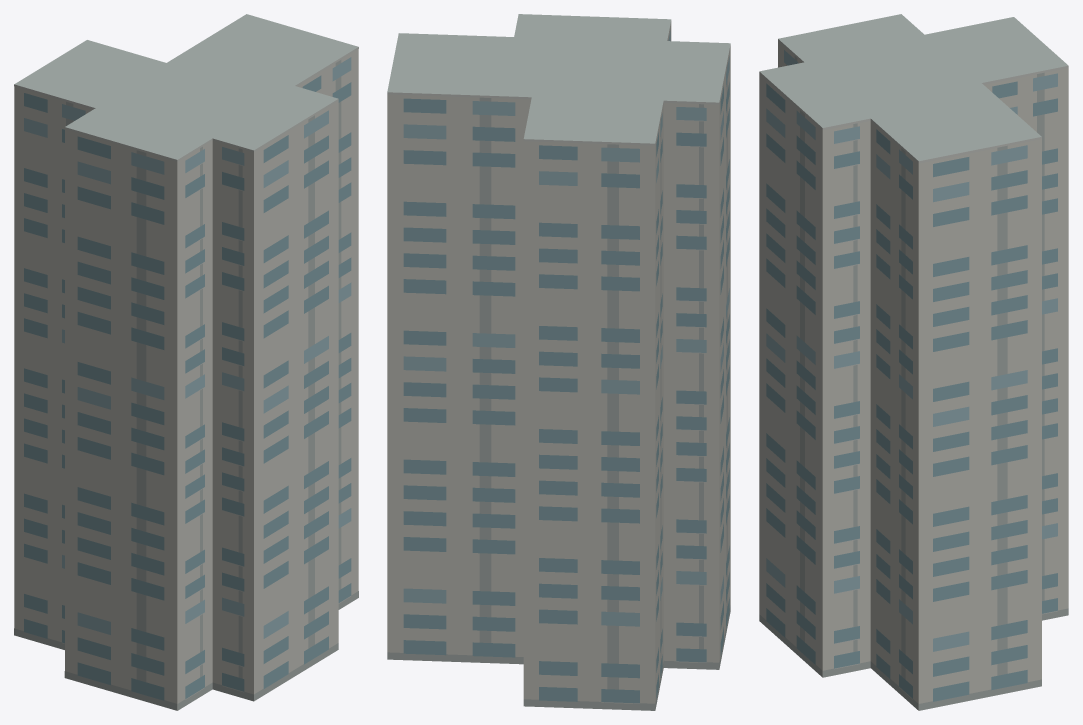
File: residential-823d056d-b11f-4263-a53a-20de6ddeec27.glb
3 views of the same model, side by side, from view 1: azimuth 30°, elevation 25°; view 2: azimuth 150°, elevation 25°; view 3: azimuth 270°, elevation 25° (orthographic). The views are drawn at different scales.
Parts seen in each view (by area): view 1: residential-823d056d-b11f-4263-a53a-20de6ddeec27.tmp; view 2: residential-823d056d-b11f-4263-a53a-20de6ddeec27.tmp; view 3: residential-823d056d-b11f-4263-a53a-20de6ddeec27.tmp.
Boxes of the visible parts, box(x1,y1,x2,y2) form: residential-823d056d-b11f-4263-a53a-20de6ddeec27.tmp: box(14, 14, 358, 710); residential-823d056d-b11f-4263-a53a-20de6ddeec27.tmp: box(387, 14, 730, 710); residential-823d056d-b11f-4263-a53a-20de6ddeec27.tmp: box(759, 14, 1068, 710).
Size of the model in its own units: 36.23 by 63 by 32.16.
